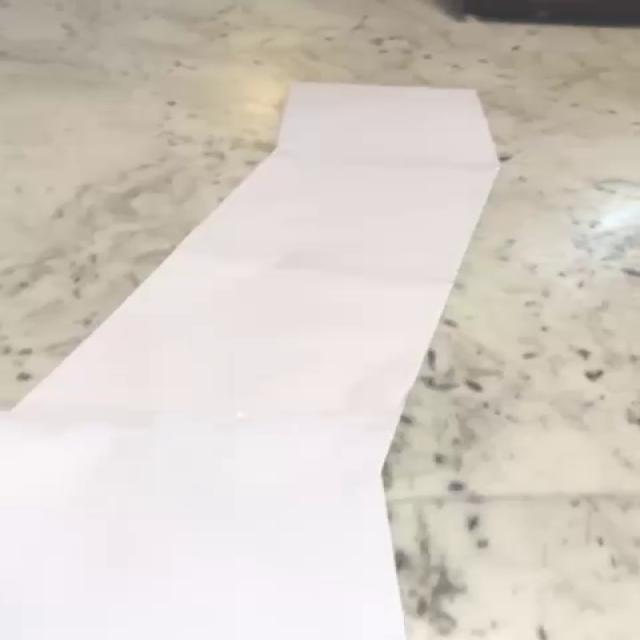road: (1, 82, 499, 640)
